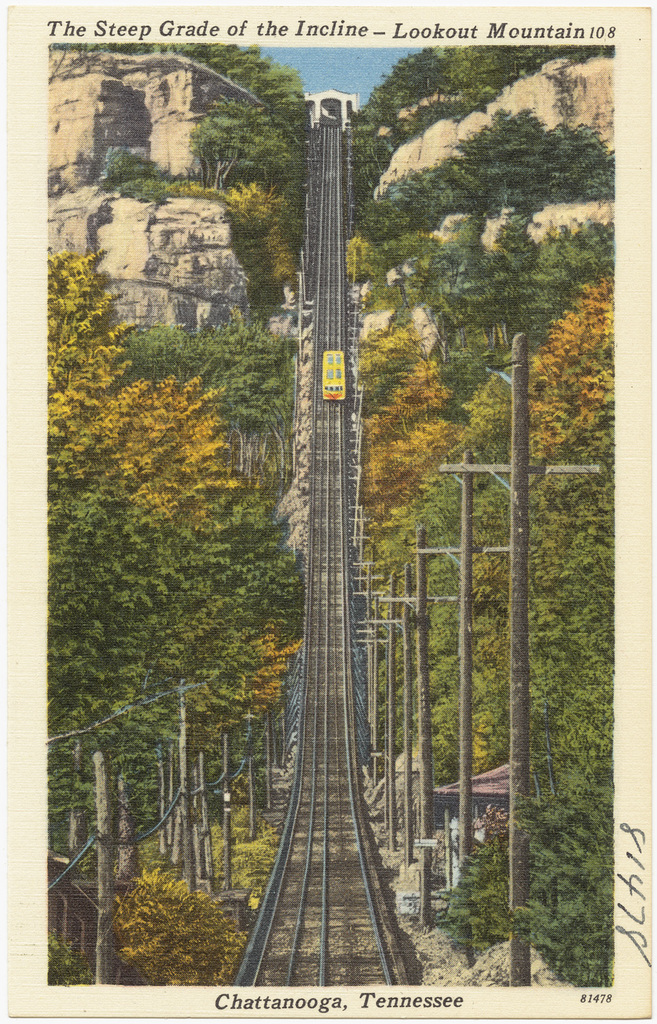Tree: (45, 42, 615, 990), (88, 866, 240, 977)
